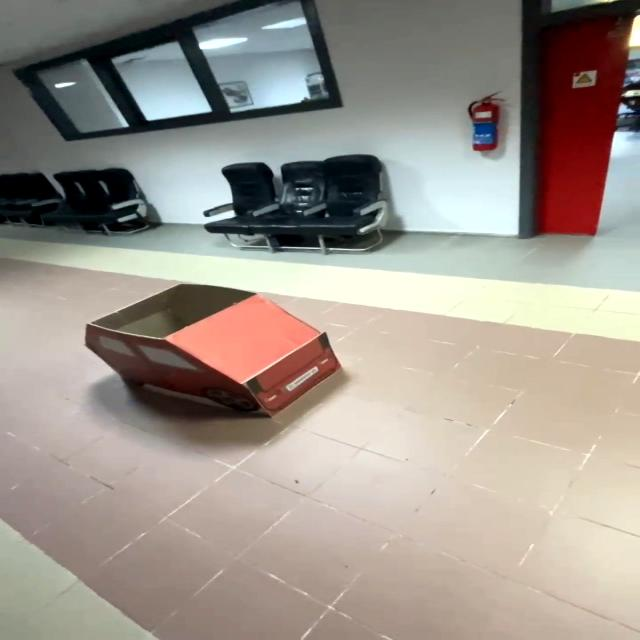red_car: (43, 270, 381, 461)
